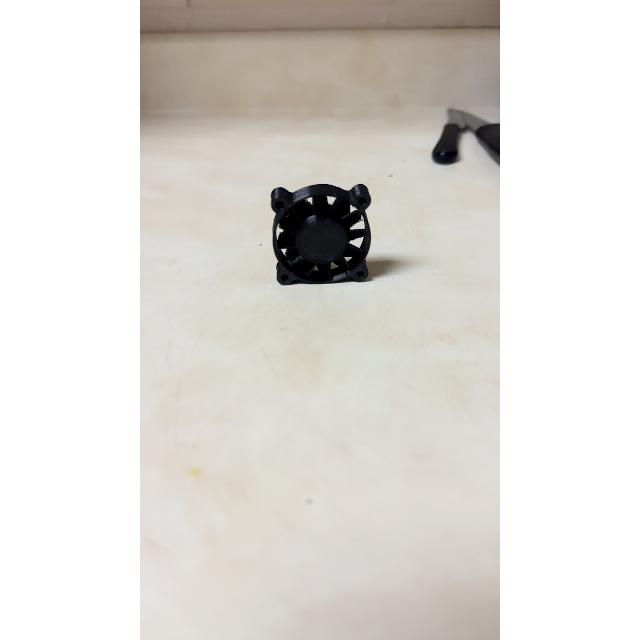Pieza_4: (245, 178, 397, 302)
